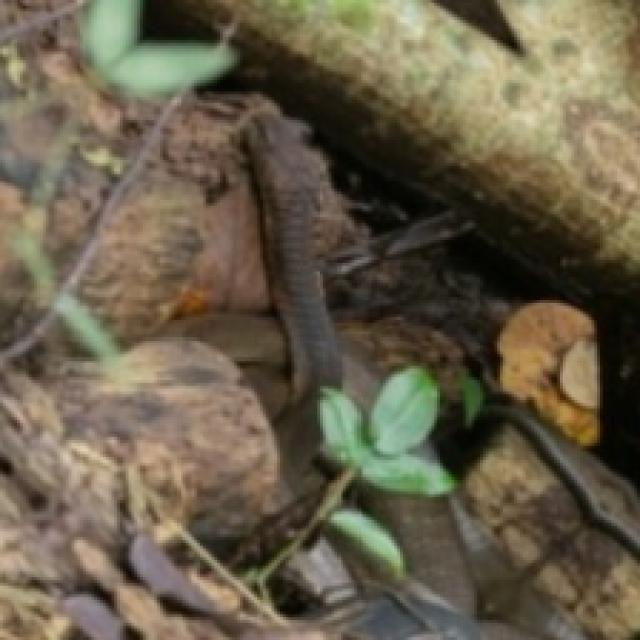king cobra: (363, 400, 637, 637)
